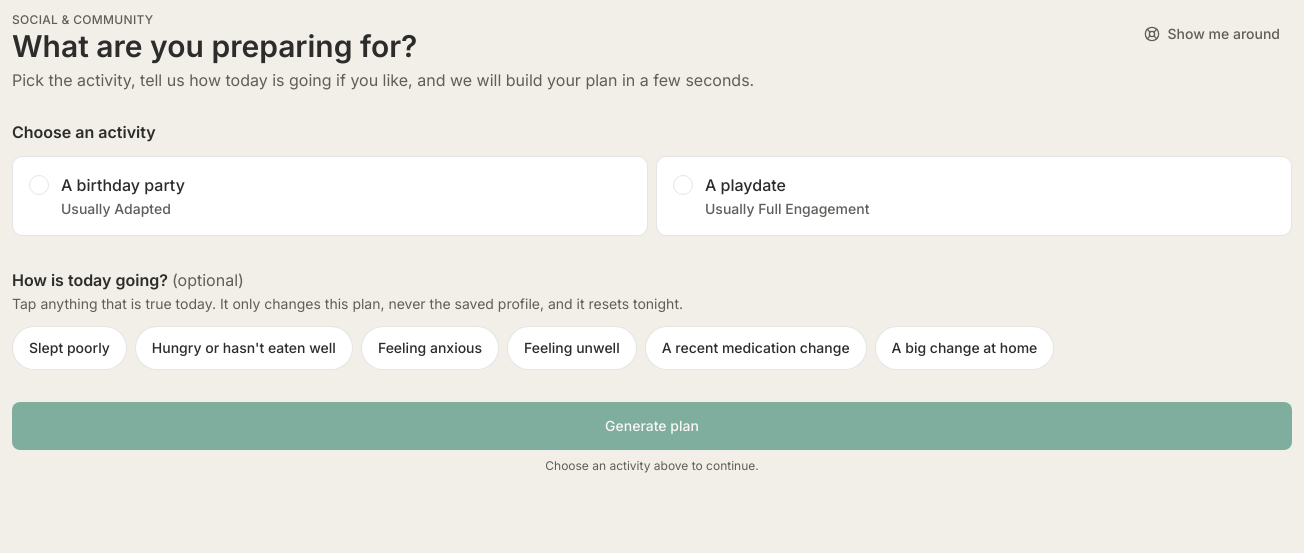
Test: PlanScreen prepare flow › nudges to onboarding (not the generic error) when preparing 409s with no care recipient
Expected: the text "A birthday party" is shown, [61,173,185,197]
Click the button "A playdate Usually Full Engagement" at (745, 185), box [656,156,1292,236]
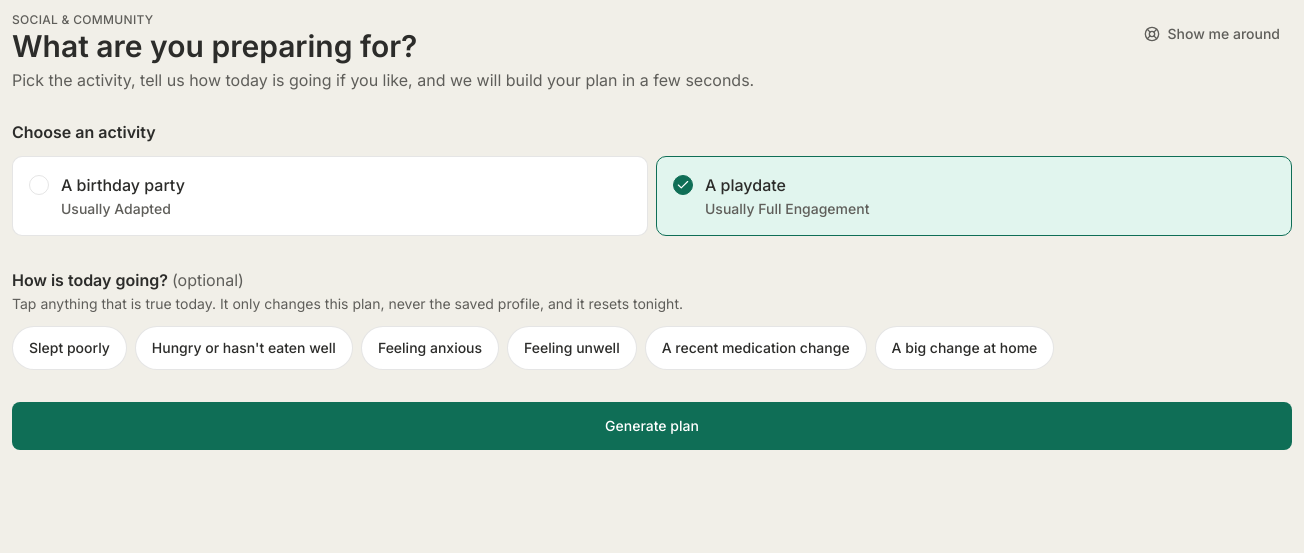
Click the button "Generate plan" at (652, 426), box [12,402,1292,450]
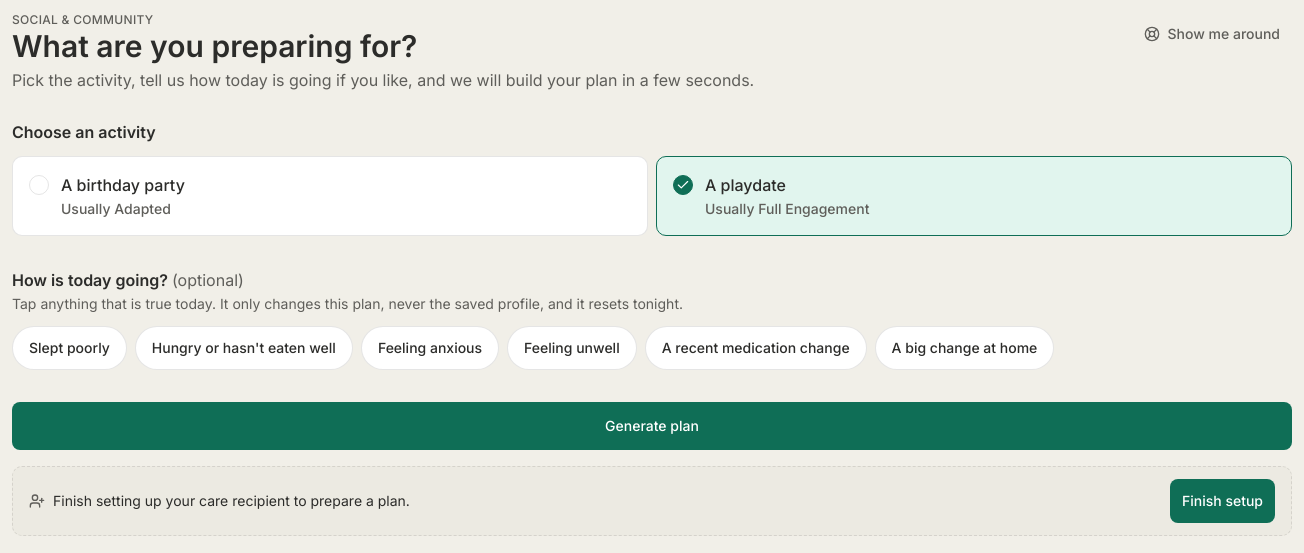
Expected: the message does not show "could not build", [12,466,1292,536]
Result: the message shows "Finish setting up your care recipient" at [53,492,410,509]
